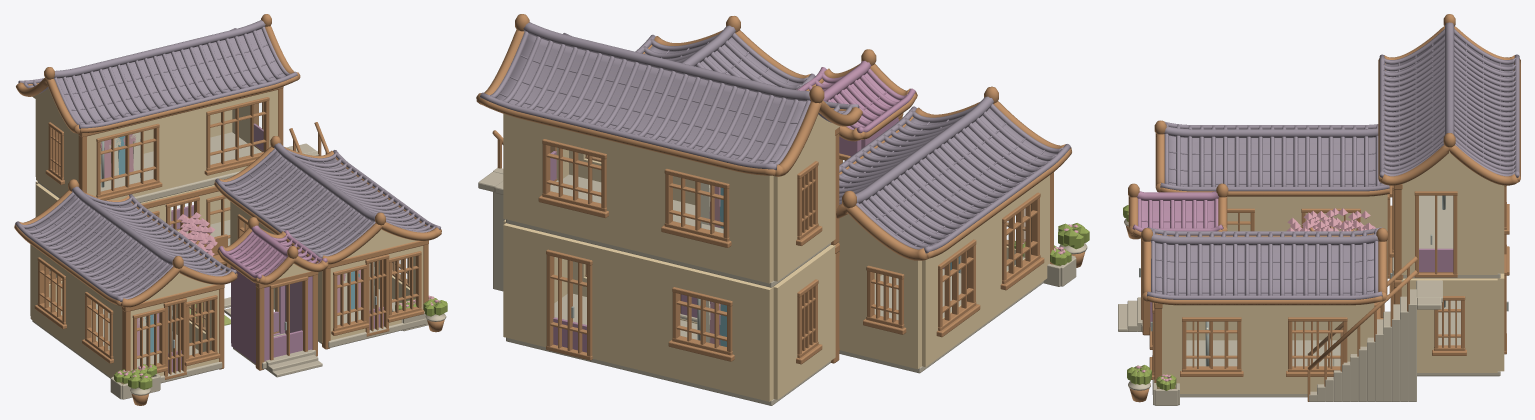
The picture shows the model from 3 angles, left to right: view 1: azimuth 30°, elevation 25°; view 2: azimuth 150°, elevation 25°; view 3: azimuth 270°, elevation 25°; orthographic projection. The views are drawn at different scales.
Visible parts, largest first — view 1: SM_15_02_曲面屋顶, SM_15_01_建筑墙体, SM_15_04_门窗楼梯, SM_15_03_木构回廊, SM_15_05_景观植物, SM_15_06_景观设施; view 2: SM_15_01_建筑墙体, SM_15_02_曲面屋顶, SM_15_04_门窗楼梯, SM_15_05_景观植物, SM_15_03_木构回廊, SM_15_06_景观设施; view 3: SM_15_02_曲面屋顶, SM_15_01_建筑墙体, SM_15_04_门窗楼梯, SM_15_05_景观植物, SM_15_03_木构回廊, SM_15_06_景观设施.
Part boxes in pixels (box(x1,y1,x2,y2)): SM_15_02_曲面屋顶: box(14, 14, 441, 307); SM_15_01_建筑墙体: box(30, 88, 426, 383); SM_15_04_门窗楼梯: box(34, 97, 424, 379); SM_15_03_木构回廊: box(78, 86, 428, 371); SM_15_05_景观植物: box(110, 212, 447, 405); SM_15_06_景观设施: box(100, 132, 374, 355); SM_15_01_建筑墙体: box(503, 114, 1049, 405); SM_15_02_曲面屋顶: box(476, 14, 1071, 260); SM_15_04_门窗楼梯: box(478, 130, 1044, 364); SM_15_05_景观植物: box(1014, 223, 1089, 286); SM_15_03_木构回廊: box(831, 113, 1053, 363); SM_15_06_景观设施: box(697, 183, 961, 346); SM_15_02_曲面屋顶: box(1128, 14, 1520, 305); SM_15_01_建筑墙体: box(1141, 151, 1504, 397); SM_15_04_门窗楼梯: box(1118, 185, 1509, 401); SM_15_05_景观植物: box(1123, 205, 1375, 405); SM_15_03_木构回廊: box(1142, 184, 1403, 386); SM_15_06_景观设施: box(1205, 195, 1445, 366).
Bounding box in the file's own units: 10.82 × 7.14 × 10.46.
